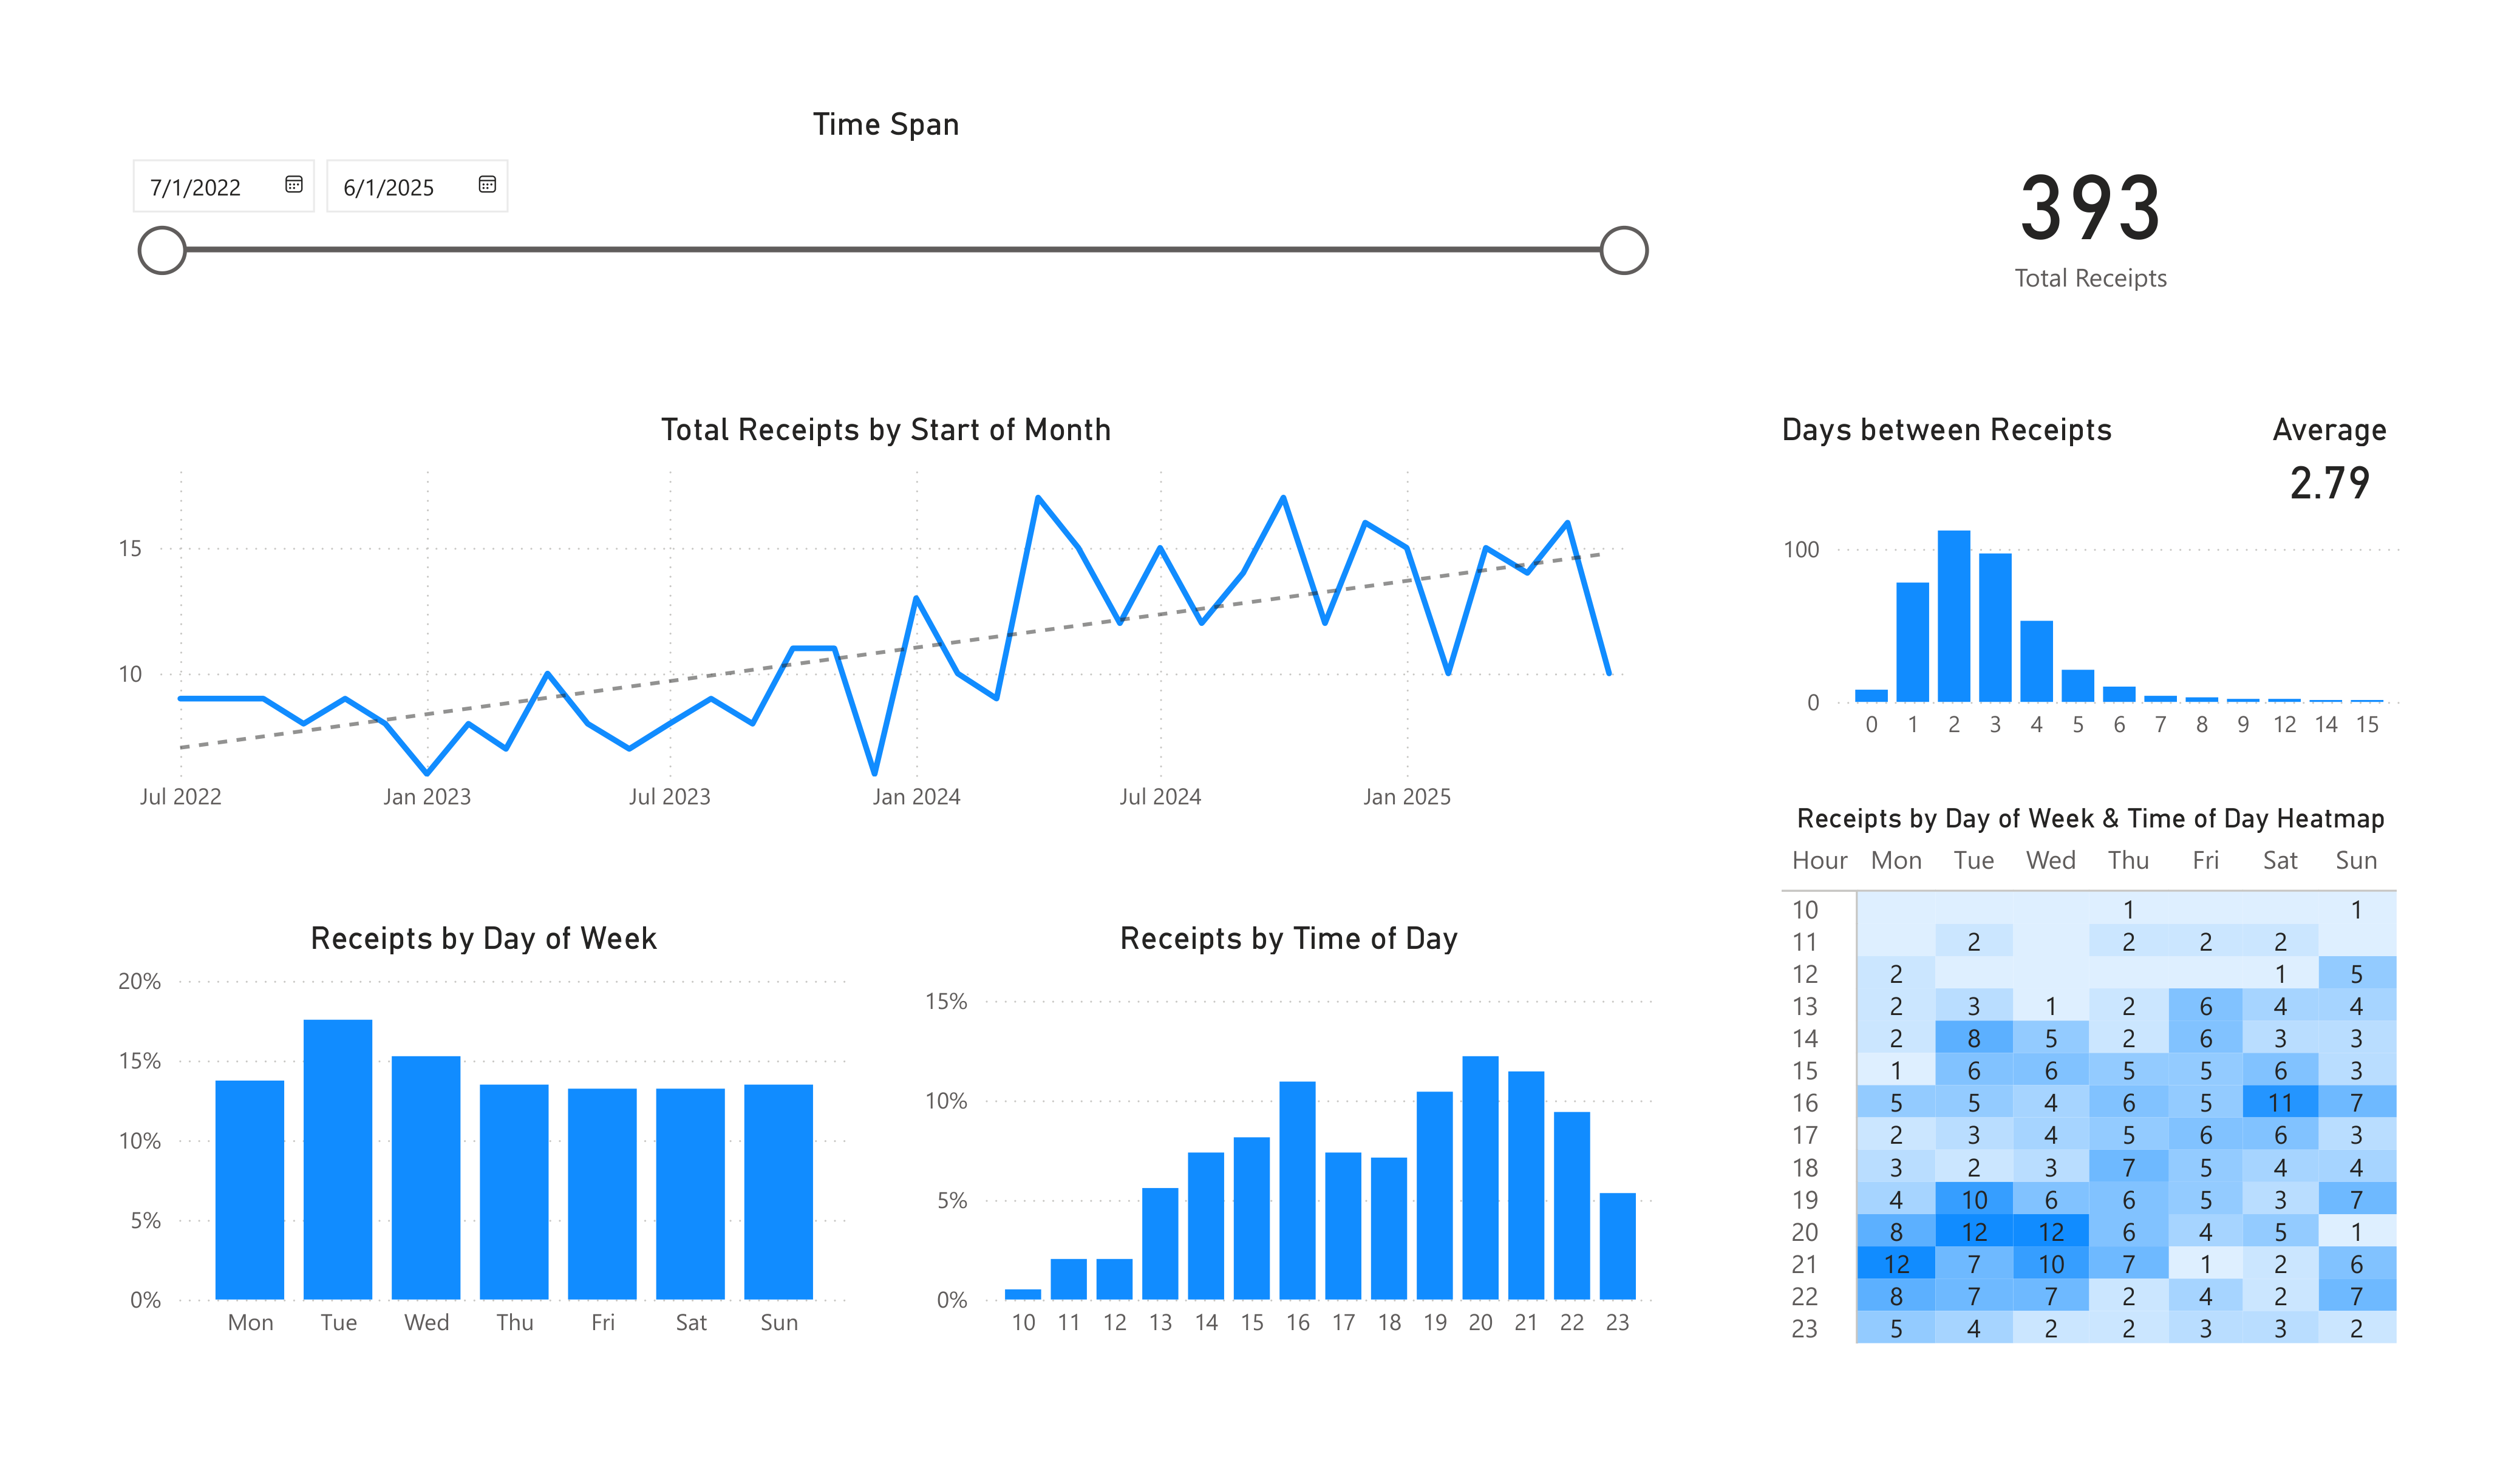

The page's visual inventory and layout, read from the dashboard file:
{"tool":"powerbi","page":{"name":"Visits","canvas":[1280,720],"ordinal":0},"visuals":[{"type":"clusteredColumnChart","title":"Receipts by Day of Week","fields":{"Y":["Measure Table.Total Receipts"],"Category":["Calendar Lookup.Day Name (Short)"]},"box":[33.4,460.1,395.4,231.1],"z":0},{"type":"clusteredColumnChart","title":"Receipts by Time of Day","fields":{"Y":["Measure Table.Total Receipts"],"Category":["Timetable Lookup.Hour"]},"box":[457.9,460.1,395.4,231.1],"z":1000},{"type":"pivotTable","title":"Receipts by Day of Week & Time of Day Heatmap","fields":{"Columns":["Calendar Lookup.Day Name (Short)"],"Rows":["Timetable Lookup.Hour"],"Values":["Measure Table.Total Receipts"]},"box":[910.1,399.4,336,291.8],"z":2000},{"type":"slicer","title":"Time Span","fields":{"Values":["Calendar Lookup.Start of Month"]},"box":[33.4,30.5,819.9,114.8],"z":3000},{"type":"lineChart","fields":{"Category":["Calendar Lookup.Calendar Hierarchy.Start of Month","Calendar Lookup.Calendar Hierarchy.Start of Week"],"Y":["Measure Table.Total Receipts"]},"box":[33.4,191.9,819.9,221.7],"z":4000},{"type":"clusteredColumnChart","title":"Days between Receipts","fields":{"Category":["Receipts.DaysSincePrevious"],"Y":["Measure Table.Total Receipts"]},"box":[910,191.9,335.8,183.9],"z":5000},{"type":"card","title":"Total Receipts","fields":{"Values":["Measure Table.Total Receipts"]},"box":[993.6,46.5,168.6,82.9],"z":6000},{"type":"card","title":"Average","fields":{"Values":["Measure Table.Average Days Since Previous Receipt"]},"box":[1161.5,191.9,84.3,56],"z":7000}]}

Visuals, with their boxes on the page's 1280x720 design canvas (x1, y1, x2, y2). These are canvas units, not pixel positions in the 2520x1457 screenshot, which may show the page scaled, cropped or inside an application window:
"Receipts by Day of Week" clusteredColumnChart: 33, 460, 429, 691
"Receipts by Time of Day" clusteredColumnChart: 458, 460, 853, 691
"Receipts by Day of Week & Time of Day Heatmap" pivotTable: 910, 399, 1246, 691
"Time Span" slicer: 33, 30, 853, 145
lineChart - Calendar Lookup.Calendar Hierarchy.Start of Month x Calendar Lookup.Calendar Hierarchy.Start of Week: 33, 192, 853, 414
"Days between Receipts" clusteredColumnChart: 910, 192, 1246, 376
"Total Receipts" card: 994, 46, 1162, 129
"Average" card: 1162, 192, 1246, 248
